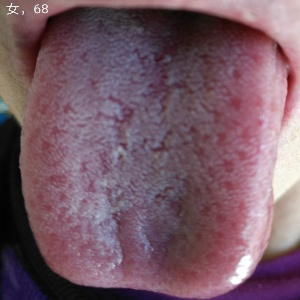st: (23, 53, 275, 291)
